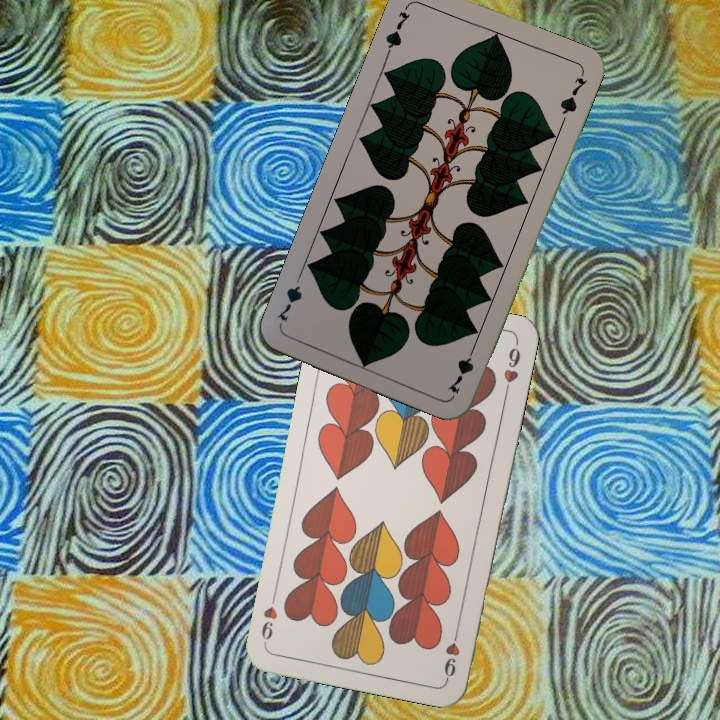G7: (444, 340, 479, 397), (381, 1, 414, 58)
H9: (440, 624, 462, 682)
